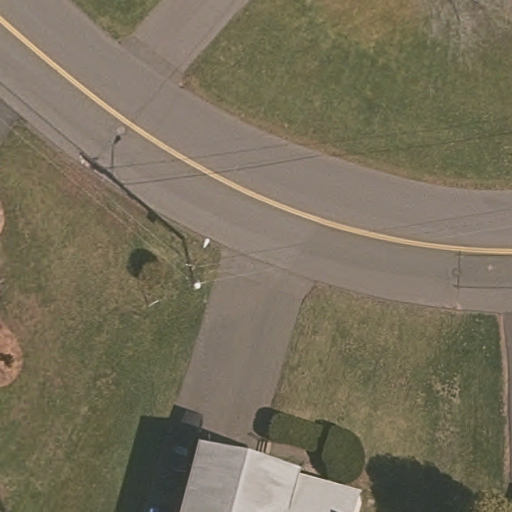DT: (179, 257, 202, 293)
